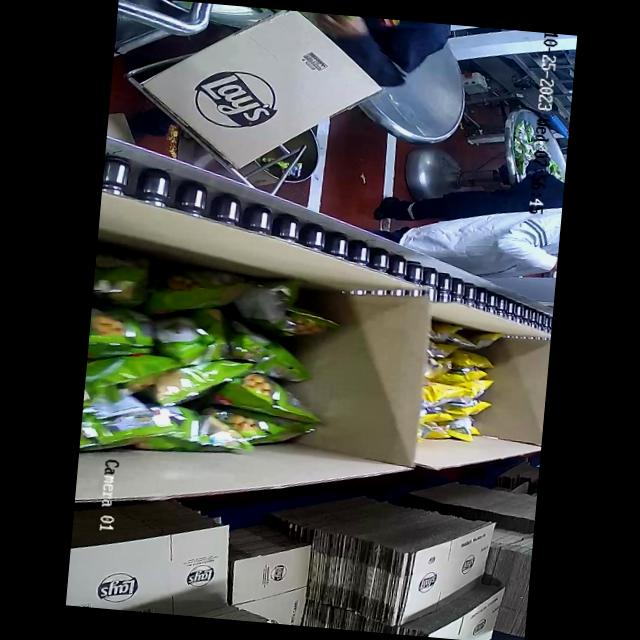salted: (412, 315, 510, 455)
yogurt: (74, 269, 320, 509)
